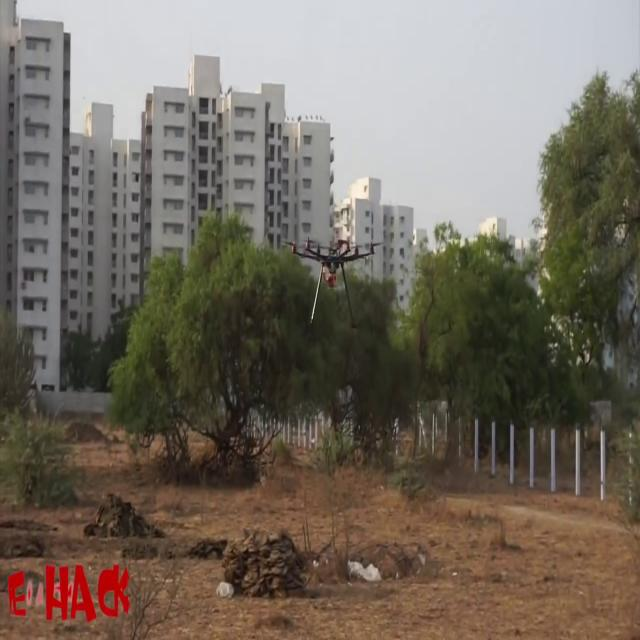drone: (270, 226, 402, 317)
